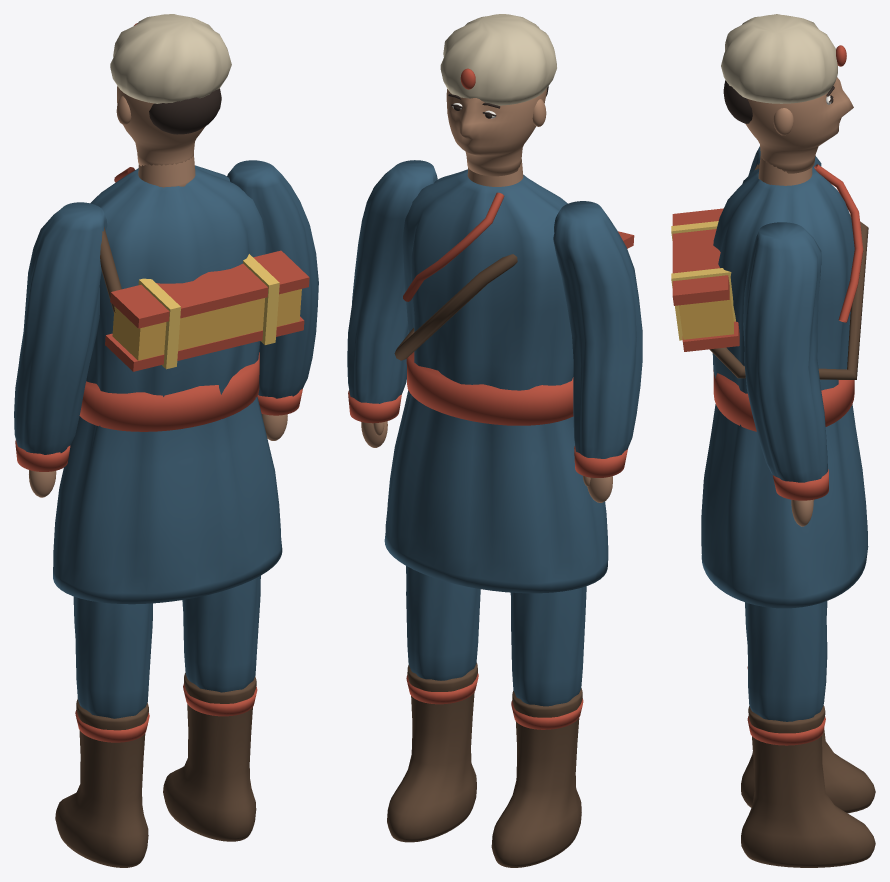
The model's file is ScriptureBearer.fbx.
3 renders of one model, left to right at view 1: azimuth 30°, elevation 25°; view 2: azimuth 150°, elevation 25°; view 3: azimuth 270°, elevation 25°, orthographic. The views are drawn at different scales.
Parts seen in each view (by area): view 1: ScriptureBearer; view 2: ScriptureBearer; view 3: ScriptureBearer.
Boxes of the visible parts, x1,y1,x2,y2 form: ScriptureBearer: (14, 14, 318, 867); ScriptureBearer: (347, 14, 642, 867); ScriptureBearer: (671, 14, 875, 867).
Size of the model in its own units: 64.44 by 40.14 by 174.
